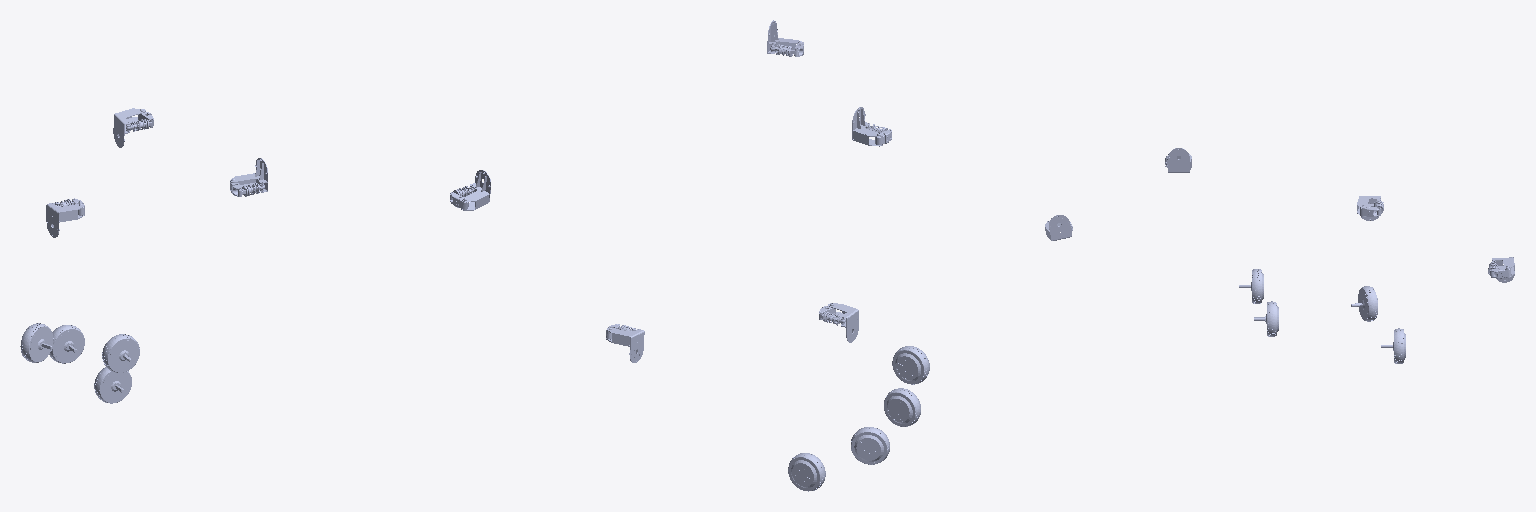
robot.urdf — ODR_Description:
<?xml version="1.0" encoding="utf-8"?>
<!-- This URDF was automatically created by SolidWorks to URDF Exporter! Originally created by Stephen Brawner ([email redacted]) 
     Commit Version: 1.6.0-4-g7f85cfe  Build Version: 1.6.7995.38578
     For more information, please see http://wiki.ros.org/sw_urdf_exporter -->
<robot
  name="ODR_Description">
  <link
    name="baseFootprint_link">
    <inertial>
      <origin
        xyz="5.5511E-17 -1.1102E-16 -0.0165"
        rpy="0 0 0" />
      <mass
        value="17.447" />
      <inertia
        ixx="0.56408"
        ixy="-3.2206E-17"
        ixz="1.5967E-19"
        iyy="1.052"
        iyz="7.7457E-34"
        izz="1.613" />
    </inertial>
    <visual>
      <origin
        xyz="0 0 0"
        rpy="0 0 0" />
      <geometry>
        <mesh
          filename="package://ODR_Description/meshes/baseFootprint_link.STL" />
      </geometry>
      <material
        name="">
        <color
          rgba="0.79216 0.81961 0.93333 1" />
      </material>
    </visual>
    <collision>
      <origin
        xyz="0 0 0"
        rpy="0 0 0" />
      <geometry>
        <mesh
          filename="package://ODR_Description/meshes/baseFootprint_link.STL" />
      </geometry>
    </collision>
  </link>
  <link
    name="Base_Link">
    <inertial>
      <origin
        xyz="-0.036174 0.0010579 0.58209"
        rpy="0 0 0" />
      <mass
        value="38.584" />
      <inertia
        ixx="1.1244"
        ixy="-1.233E-06"
        ixz="0.072187"
        iyy="1.942"
        iyz="1.2498E-05"
        izz="2.7197" />
    </inertial>
    <visual>
      <origin
        xyz="0 0 0"
        rpy="0 0 0" />
      <geometry>
        <mesh
          filename="package://ODR_Description/meshes/Base_Link.STL" />
      </geometry>
      <material
        name="">
        <color
          rgba="0.79216 0.81961 0.93333 1" />
      </material>
    </visual>
    <collision>
      <origin
        xyz="0 0 0"
        rpy="0 0 0" />
      <geometry>
        <mesh
          filename="package://ODR_Description/meshes/Base_Link.STL" />
      </geometry>
    </collision>
  </link>
  <joint
    name="Basefootprint_joint"
    type="planar">
    <origin
      xyz="0 0 0.089894"
      rpy="0 0 0" />
    <parent
      link="baseFootprint_link" />
    <child
      link="Base_Link" />
    <axis
      xyz="0 0 0" />
  </joint>
  <link
    name="FL_Link">
    <inertial>
      <origin
        xyz="-0.047555 0.0022762 -0.067761"
        rpy="0 0 0" />
      <mass
        value="0.21503" />
      <inertia
        ixx="0.00019795"
        ixy="-1.3335E-05"
        ixz="-3.351E-05"
        iyy="0.00019983"
        iyz="-2.8177E-05"
        izz="0.00016954" />
    </inertial>
    <visual>
      <origin
        xyz="0 0 0"
        rpy="0 0 0" />
      <geometry>
        <mesh
          filename="package://ODR_Description/meshes/FL_Link.STL" />
      </geometry>
      <material
        name="">
        <color
          rgba="0.79216 0.81961 0.93333 1" />
      </material>
    </visual>
    <collision>
      <origin
        xyz="0 0 0"
        rpy="0 0 0" />
      <geometry>
        <mesh
          filename="package://ODR_Description/meshes/FL_Link.STL" />
      </geometry>
    </collision>
  </link>
  <joint
    name="FL_joint"
    type="revolute">
    <origin
      xyz="-0.29 -0.24 0.1095"
      rpy="0 0 -1.5708" />
    <parent
      link="Base_Link" />
    <child
      link="FL_Link" />
    <axis
      xyz="0 0 1" />
    <limit
      lower="0"
      upper="0"
      effort="0"
      velocity="0" />
  </joint>
  <link
    name="FL_Wheel_Link">
    <inertial>
      <origin
        xyz="7.27157419946889E-06 -1.75839232063879E-10 -0.029854500735608"
        rpy="0 0 0" />
      <mass
        value="0.958023999361774" />
      <inertia
        ixx="0.00158540696073118"
        ixy="-1.05721590858015E-11"
        ixz="-3.83262445164655E-07"
        iyy="0.0015853725682639"
        iyz="-1.10489654833271E-12"
        izz="0.00270273970152626" />
    </inertial>
    <visual>
      <origin
        xyz="0 0 0"
        rpy="0 0 0" />
      <geometry>
        <mesh
          filename="package://ODR_Description/meshes/FL_Wheel_Link.STL" />
      </geometry>
      <material
        name="">
        <color
          rgba="0.792156862745098 0.819607843137255 0.933333333333333 1" />
      </material>
    </visual>
    <collision>
      <origin
        xyz="0 0 0"
        rpy="0 0 0" />
      <geometry>
        <mesh
          filename="package://ODR_Description/meshes/FL_Wheel_Link.STL" />
      </geometry>
    </collision>
  </link>
  <joint
    name="LF_Wheel_joint"
    type="continuous">
    <origin
      xyz="-0.0306 -0.00087633 -0.1202"
      rpy="-1.5708 1.4835 1.5708" />
    <parent
      link="FL_Link" />
    <child
      link="FL_Wheel_Link" />
    <axis
      xyz="0 0 -1" />
  </joint>
  <link
    name="FR_Link">
    <inertial>
      <origin
        xyz="-0.047555 -0.0023382 -0.067761"
        rpy="0 0 0" />
      <mass
        value="0.21503" />
      <inertia
        ixx="0.00019795"
        ixy="1.3311E-05"
        ixz="-3.351E-05"
        iyy="0.00019983"
        iyz="2.8228E-05"
        izz="0.00016954" />
    </inertial>
    <visual>
      <origin
        xyz="0 0 0"
        rpy="0 0 0" />
      <geometry>
        <mesh
          filename="package://ODR_Description/meshes/FR_Link.STL" />
      </geometry>
      <material
        name="">
        <color
          rgba="0.79216 0.81961 0.93333 1" />
      </material>
    </visual>
    <collision>
      <origin
        xyz="0 0 0"
        rpy="0 0 0" />
      <geometry>
        <mesh
          filename="package://ODR_Description/meshes/FR_Link.STL" />
      </geometry>
    </collision>
  </link>
  <joint
    name="FR_joint"
    type="revolute">
    <origin
      xyz="-0.29 0.24 0.1095"
      rpy="0 0 1.5729" />
    <parent
      link="Base_Link" />
    <child
      link="FR_Link" />
    <axis
      xyz="0 0 1" />
    <limit
      lower="0"
      upper="0"
      effort="0"
      velocity="0" />
  </joint>
  <link
    name="FR_Wheel_Link">
    <inertial>
      <origin
        xyz="7.27148910576597E-06 -1.1591219650775E-10 -0.0298545024574719"
        rpy="0 0 0" />
      <mass
        value="0.958024021287255" />
      <inertia
        ixx="0.00158540696974951"
        ixy="-1.05122302310526E-11"
        ixz="-3.83261213961359E-07"
        iyy="0.00158537257740761"
        iyz="-2.21095193519486E-12"
        izz="0.00270273980637586" />
    </inertial>
    <visual>
      <origin
        xyz="0 0 0"
        rpy="0 0 0" />
      <geometry>
        <mesh
          filename="package://ODR_Description/meshes/FR_Wheel_Link.STL" />
      </geometry>
      <material
        name="">
        <color
          rgba="0.792156862745098 0.819607843137255 0.933333333333333 1" />
      </material>
    </visual>
    <collision>
      <origin
        xyz="0 0 0"
        rpy="0 0 0" />
      <geometry>
        <mesh
          filename="package://ODR_Description/meshes/FR_Wheel_Link.STL" />
      </geometry>
    </collision>
  </link>
  <joint
    name="FR_Wheel_joint"
    type="revolute">
    <origin
      xyz="-0.0306 0.00087633 -0.1202"
      rpy="-1.5708 -0.76932 1.5708" />
    <parent
      link="FR_Link" />
    <child
      link="FR_Wheel_Link" />
    <axis
      xyz="0 0 1" />
    <limit
      lower="0"
      upper="0"
      effort="0"
      velocity="0" />
  </joint>
  <link
    name="RL_Link">
    <inertial>
      <origin
        xyz="-0.0475554829926358 -0.00233820854351929 -0.0677612873132223"
        rpy="0 0 0" />
      <mass
        value="0.215025508463833" />
      <inertia
        ixx="0.000197950657899495"
        ixy="1.33114292440054E-05"
        ixz="-3.35101036356306E-05"
        iyy="0.000199828110503897"
        iyz="2.82281827993179E-05"
        izz="0.000169542871282228" />
    </inertial>
    <visual>
      <origin
        xyz="0 0 0"
        rpy="0 0 0" />
      <geometry>
        <mesh
          filename="package://ODR_Description/meshes/RL_Link.STL" />
      </geometry>
      <material
        name="">
        <color
          rgba="0.792156862745098 0.819607843137255 0.933333333333333 1" />
      </material>
    </visual>
    <collision>
      <origin
        xyz="0 0 0"
        rpy="0 0 0" />
      <geometry>
        <mesh
          filename="package://ODR_Description/meshes/RL_Link.STL" />
      </geometry>
    </collision>
  </link>
  <joint
    name="RL_joint"
    type="revolute">
    <origin
      xyz="0.29 -0.24 0.1095"
      rpy="0 0 -1.4052" />
    <parent
      link="Base_Link" />
    <child
      link="RL_Link" />
    <axis
      xyz="0 0 1" />
    <limit
      lower="0"
      upper="0"
      effort="0"
      velocity="0" />
  </joint>
  <link
    name="RL_Wheel_Link">
    <inertial>
      <origin
        xyz="7.2793780465652E-06 -4.18713309857655E-09 -0.0298544966898272"
        rpy="0 0 0" />
      <mass
        value="0.958023987688636" />
      <inertia
        ixx="0.00158540694835643"
        ixy="-3.77768367353806E-11"
        ixz="-3.83124775562562E-07"
        iyy="0.00158537249628559"
        iyz="3.5307860605236E-10"
        izz="0.0027027397868836" />
    </inertial>
    <visual>
      <origin
        xyz="0 0 0"
        rpy="0 0 0" />
      <geometry>
        <mesh
          filename="package://ODR_Description/meshes/RL_Wheel_Link.STL" />
      </geometry>
      <material
        name="">
        <color
          rgba="0.792156862745098 0.819607843137255 0.933333333333333 1" />
      </material>
    </visual>
    <collision>
      <origin
        xyz="0 0 0"
        rpy="0 0 0" />
      <geometry>
        <mesh
          filename="package://ODR_Description/meshes/RL_Wheel_Link.STL" />
      </geometry>
    </collision>
  </link>
  <joint
    name="RL_Wheel_joint"
    type="revolute">
    <origin
      xyz="-0.0306 0.00087633 -0.1202"
      rpy="1.5708 0.25378 -1.5708" />
    <parent
      link="RL_Link" />
    <child
      link="RL_Wheel_Link" />
    <axis
      xyz="0 0 1" />
    <limit
      lower="0"
      upper="0"
      effort="0"
      velocity="0" />
  </joint>
  <link
    name="RR_Link">
    <inertial>
      <origin
        xyz="-0.0475554754330576 0.0022761607665106 -0.0677613704674685"
        rpy="0 0 0" />
      <mass
        value="0.215025526597524" />
      <inertia
        ixx="0.000197950653561478"
        ixy="-1.33354491574847E-05"
        ixz="-3.35101244358478E-05"
        iyy="0.000199827976556842"
        iyz="-2.81773500824485E-05"
        izz="0.000169543008680782" />
    </inertial>
    <visual>
      <origin
        xyz="0 0 0"
        rpy="0 0 0" />
      <geometry>
        <mesh
          filename="package://ODR_Description/meshes/RR_Link.STL" />
      </geometry>
      <material
        name="">
        <color
          rgba="0.792156862745098 0.819607843137255 0.933333333333333 1" />
      </material>
    </visual>
    <collision>
      <origin
        xyz="0 0 0"
        rpy="0 0 0" />
      <geometry>
        <mesh
          filename="package://ODR_Description/meshes/RR_Link.STL" />
      </geometry>
    </collision>
  </link>
  <joint
    name="RR_joint"
    type="revolute">
    <origin
      xyz="0.29 0.24 0.1095"
      rpy="0 0 1.4868" />
    <parent
      link="Base_Link" />
    <child
      link="RR_Link" />
    <axis
      xyz="0 0 1" />
    <limit
      lower="0"
      upper="0"
      effort="0"
      velocity="0" />
  </joint>
  <link
    name="RR_Wheel_Link">
    <inertial>
      <origin
        xyz="7.27624908103408E-06 6.957644599348E-10 -0.0298544942168065"
        rpy="0 0 0" />
      <mass
        value="0.958024073701802" />
      <inertia
        ixx="0.00158540700210959"
        ixy="3.39989887689744E-11"
        ixz="-3.83108836539905E-07"
        iyy="0.00158537272992388"
        iyz="3.27083678219858E-10"
        izz="0.00270274016824093" />
    </inertial>
    <visual>
      <origin
        xyz="0 0 0"
        rpy="0 0 0" />
      <geometry>
        <mesh
          filename="package://ODR_Description/meshes/RR_Wheel_Link.STL" />
      </geometry>
      <material
        name="">
        <color
          rgba="0.792156862745098 0.819607843137255 0.933333333333333 1" />
      </material>
    </visual>
    <collision>
      <origin
        xyz="0 0 0"
        rpy="0 0 0" />
      <geometry>
        <mesh
          filename="package://ODR_Description/meshes/RR_Wheel_Link.STL" />
      </geometry>
    </collision>
  </link>
  <joint
    name="RR_Wheel_joint"
    type="revolute">
    <origin
      xyz="-0.0306 -0.00087633 -0.1202"
      rpy="-1.5708 0 1.5708" />
    <parent
      link="RR_Link" />
    <child
      link="RR_Wheel_Link" />
    <axis
      xyz="0 0 -1" />
    <limit
      lower="0"
      upper="0"
      effort="0"
      velocity="0" />
  </joint>
</robot>

--- What the picture shows (computed from the rendered views, not written in the file) ---
Views: 3 orthographic renders of the robot side by side, from view 1: azimuth 30°, elevation 25°; view 2: azimuth 150°, elevation 25°; view 3: azimuth 270°, elevation 25°.
Robot: ODR_Description — 10 links, 9 joints (7 revolute, 1 continuous, 1 planar); root link baseFootprint_link; default pose: all joints at 0.
Links seen in each view (by area): view 1: FR_Wheel_Link, FL_Wheel_Link, RL_Link, RL_Wheel_Link, RR_Wheel_Link, RR_Link, FR_Link, FL_Link; view 2: RL_Wheel_Link, RR_Wheel_Link, FL_Wheel_Link, FR_Wheel_Link, FR_Link, FL_Link, RR_Link, RL_Link; view 3: RL_Wheel_Link, FR_Link, RR_Link, FL_Link, RL_Link.
Boxes of the visible links, x1,y1,x2,y2 form: FR_Wheel_Link: (102,334,139,372); FL_Wheel_Link: (49,325,84,363); RL_Link: (450,170,490,210); RL_Wheel_Link: (20,323,53,362); RR_Wheel_Link: (94,367,131,403); RR_Link: (113,108,153,147); FR_Link: (46,198,84,237); FL_Link: (230,158,267,196); RL_Wheel_Link: (851,427,889,464); RR_Wheel_Link: (884,388,920,426); FL_Wheel_Link: (788,453,825,491); FR_Wheel_Link: (892,346,929,384); FR_Link: (819,303,858,342); FL_Link: (852,107,891,146); RR_Link: (606,324,644,362); RL_Link: (767,20,803,56); RL_Wheel_Link: (1351,286,1377,321); FR_Link: (1357,196,1383,220); RR_Link: (1488,257,1514,282); FL_Link: (1165,148,1191,172); RL_Link: (1045,215,1072,240).
Bounding box of the posed robot: 1.33 × 2.09 × 1.2 m (x, y, z).
Meshes: 10 distinct files referenced, 8 mesh visuals loaded (8 binary STL); not drawn: 2 (reference not matched to a file when rendering).
